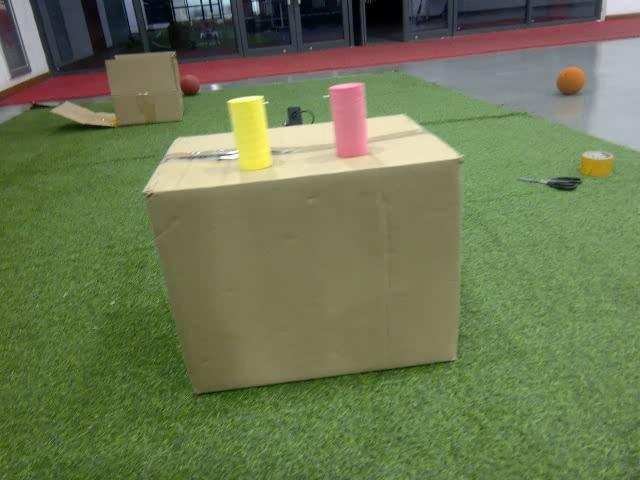orange_ball: (556, 67, 586, 97)
red_ball: (179, 73, 200, 98)
red_cylinder: (325, 81, 376, 160)
yellow_cylinder: (224, 94, 277, 173)
